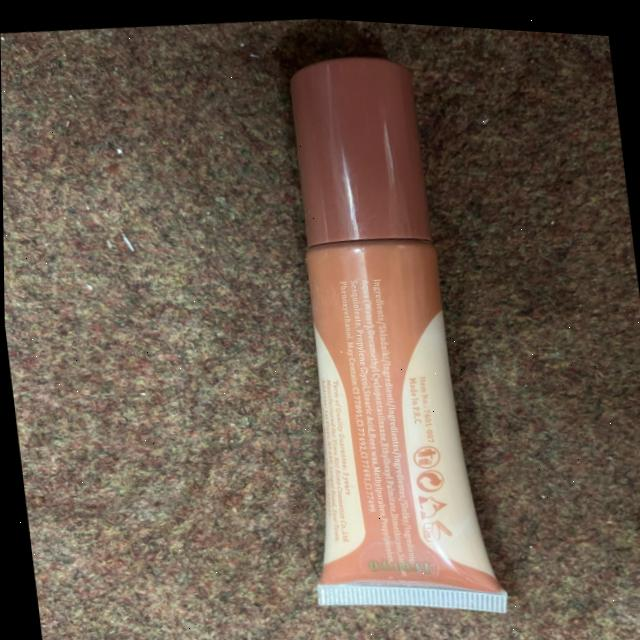Tint: (206, 10, 533, 640)
